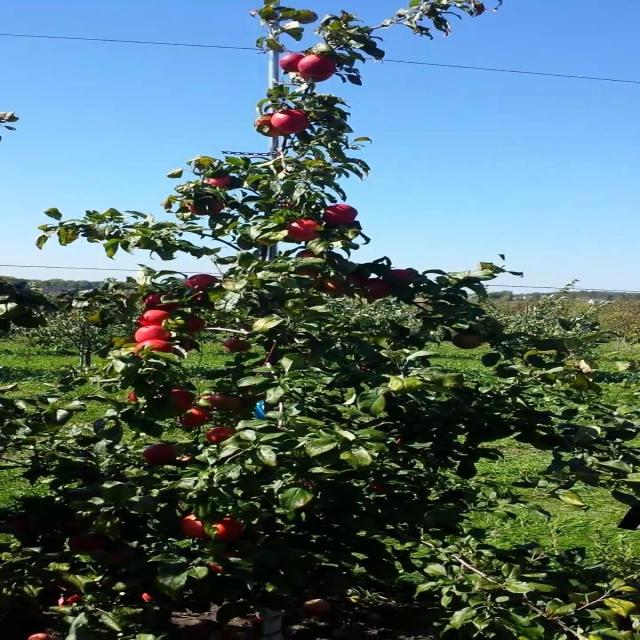apple: (298, 54, 336, 81), (271, 109, 309, 134), (182, 195, 224, 214), (322, 204, 358, 226), (142, 444, 178, 465), (287, 219, 320, 241), (180, 514, 209, 539), (213, 518, 244, 541), (144, 292, 180, 311), (382, 269, 418, 288), (362, 279, 393, 301), (253, 114, 282, 137), (178, 408, 211, 428), (133, 325, 171, 342), (69, 534, 107, 551), (202, 174, 242, 190), (167, 389, 196, 411), (184, 274, 218, 292), (451, 331, 484, 349), (313, 278, 347, 295), (204, 426, 236, 444), (209, 394, 242, 411), (133, 339, 173, 353), (278, 52, 304, 72), (4, 516, 31, 535), (138, 310, 169, 326), (293, 70, 332, 82), (100, 552, 131, 566), (56, 519, 84, 534), (182, 314, 204, 333), (222, 338, 251, 352), (241, 386, 267, 401), (347, 270, 369, 287), (347, 272, 369, 287), (293, 266, 320, 278), (369, 482, 393, 495), (127, 389, 147, 404), (58, 594, 82, 606), (296, 250, 318, 259), (207, 562, 224, 573), (296, 250, 318, 258), (176, 454, 193, 464), (191, 292, 207, 302), (140, 592, 156, 602), (127, 391, 140, 403)
